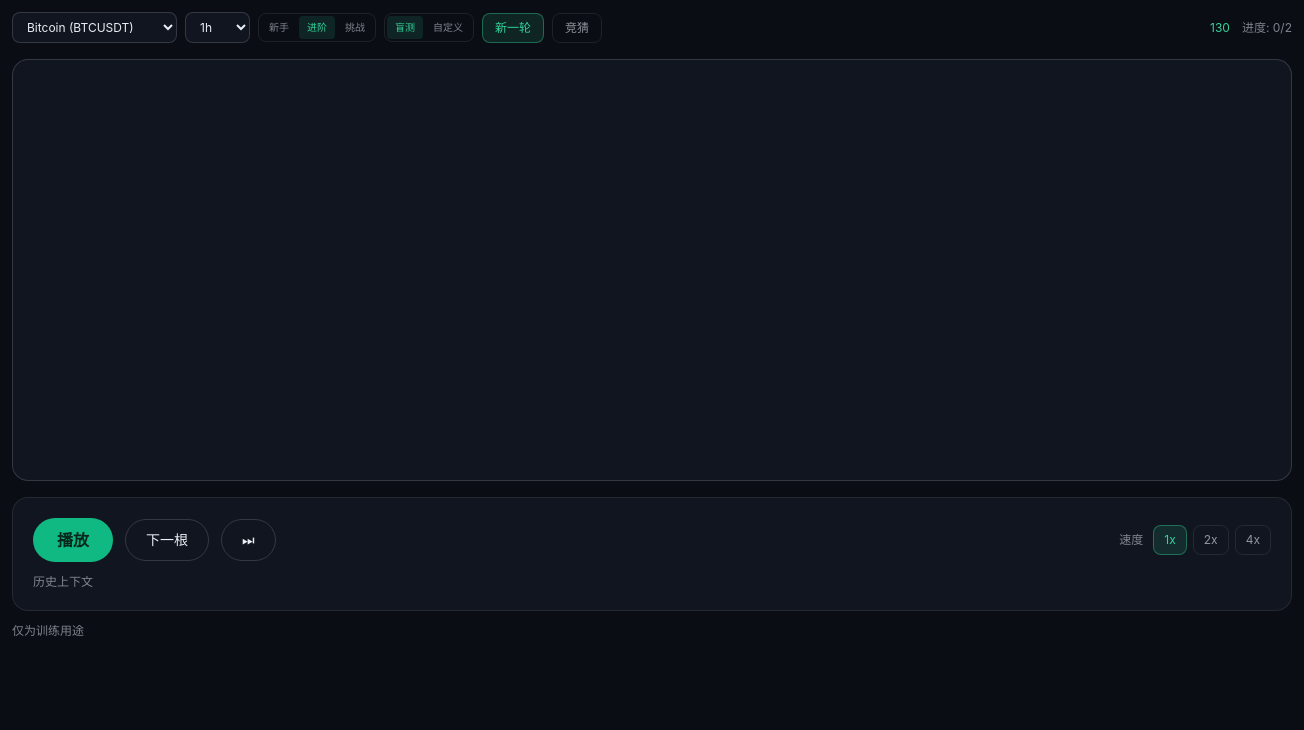
Test: ReplayTrainer 竞猜模式与战绩 › 竞猜模式下按空格等非预测操作不推进，必须先预测
The image size is (1304, 730).
Expected: the text "130 进度: 0/2" is shown, [1210,20,1292,36]
Click the button "竞猜" at (577, 28), box [552,12,602,42]
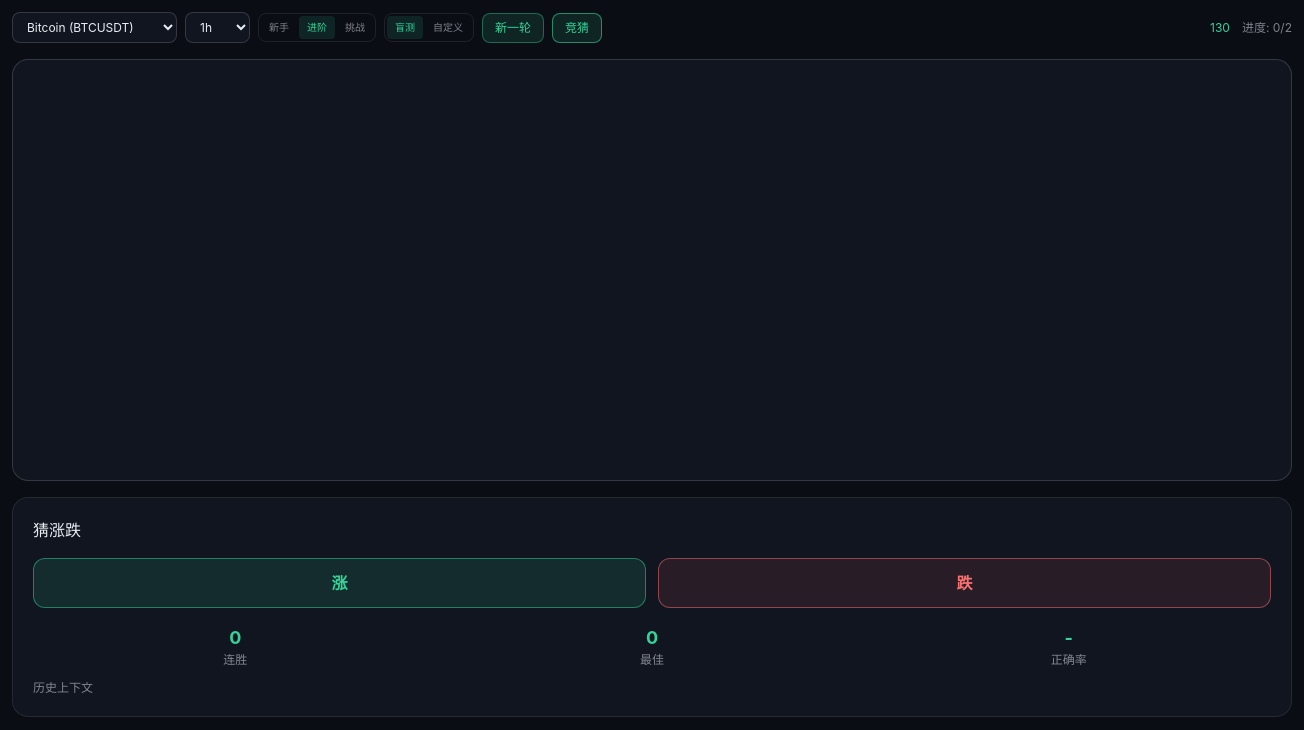
Expected: the text "130 进度: 0/2" is shown, [1210,20,1292,36]
Now the button "下一根" is gone
